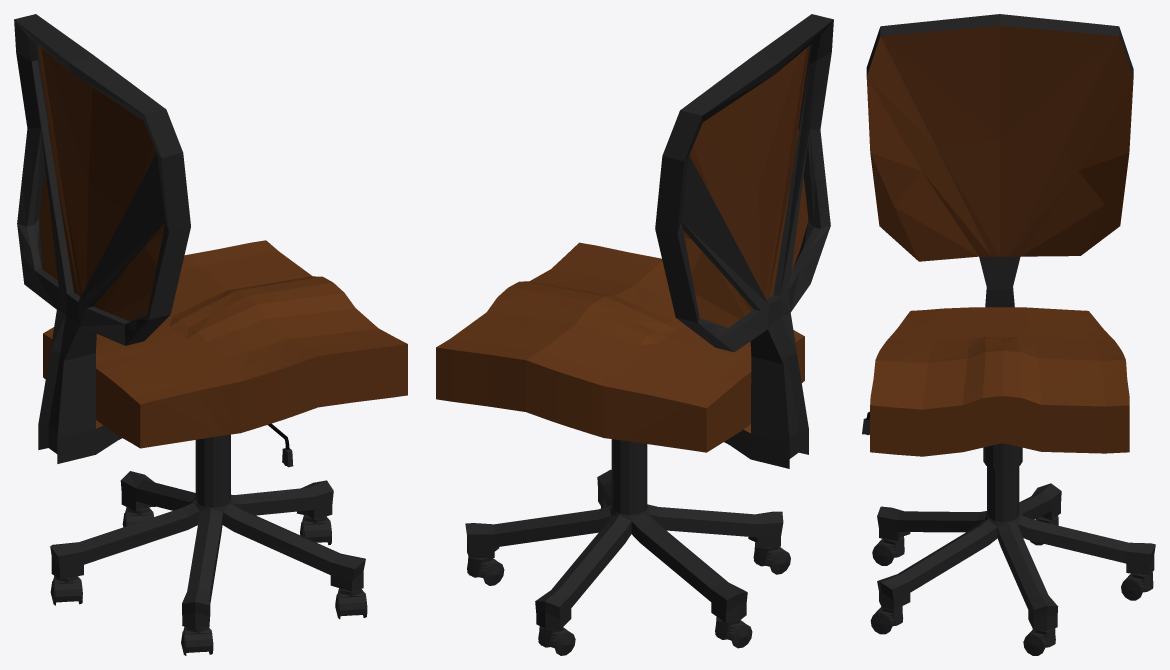
The model's file is officeChair.dae.
The picture shows the model from 3 angles, left to right: view 1: azimuth 30°, elevation 25°; view 2: azimuth 150°, elevation 25°; view 3: azimuth 270°, elevation 25°; orthographic projection. The views are drawn at different scales.
Visible parts, largest first — view 1: ChairBase; view 2: ChairBase; view 3: ChairBase.
Boxes of the visible parts, x1,y1,x2,y2 form: ChairBase: (14,14,407,655); ChairBase: (436,14,833,655); ChairBase: (862,14,1155,655).
Bounding box in the file's own units: 0.7459 × 0.6787 × 1.32.
